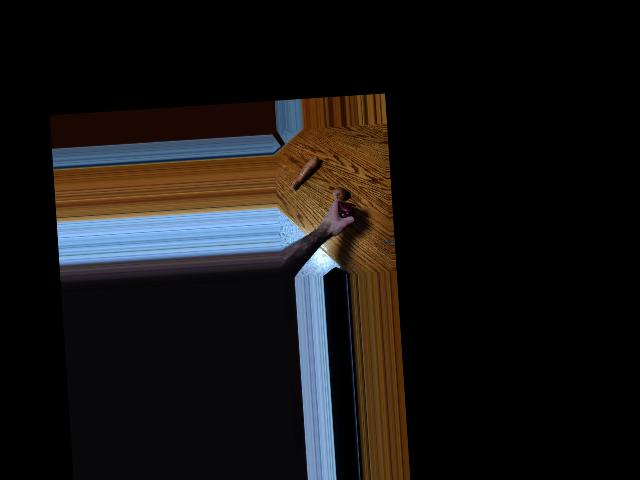onion: (331, 185, 348, 204)
